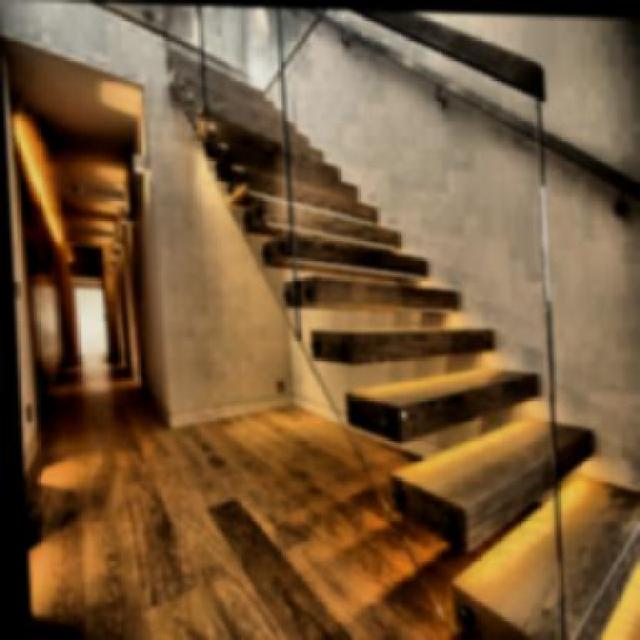stair: (248, 67, 589, 638)
